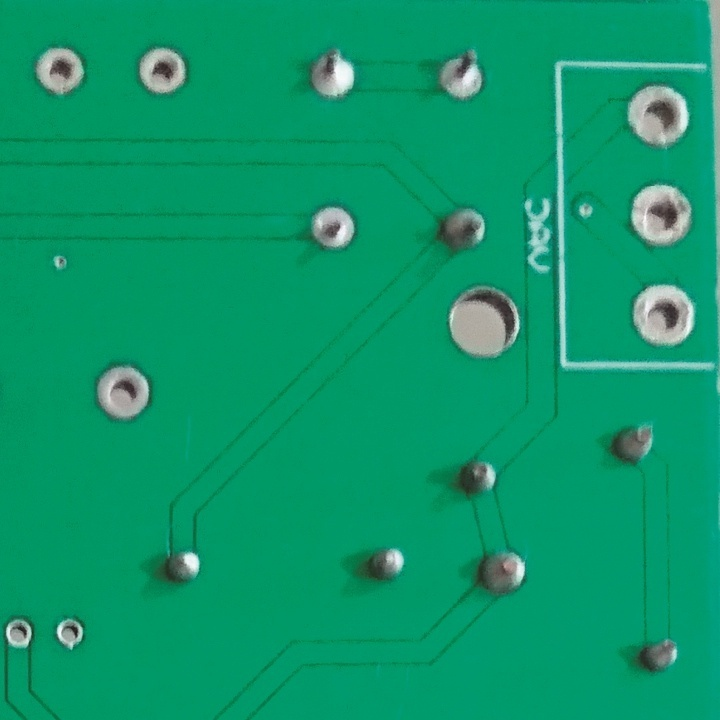F: (624, 81, 693, 155), (630, 179, 696, 249), (629, 283, 696, 348), (94, 358, 153, 426), (133, 43, 190, 98), (31, 43, 87, 98), (436, 46, 487, 103), (308, 199, 359, 252), (311, 48, 359, 100), (53, 614, 84, 652), (4, 615, 37, 649)
